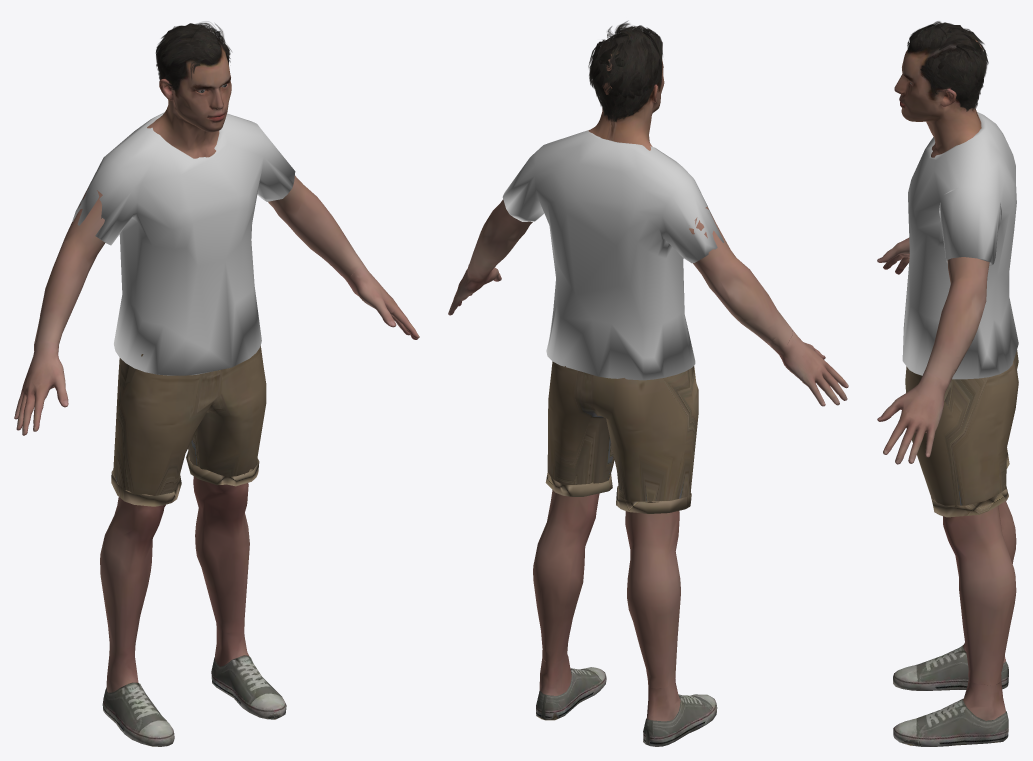
Rendered from sjoe.glb.
3 views of the same model, side by side, from view 1: azimuth 30°, elevation 25°; view 2: azimuth 150°, elevation 25°; view 3: azimuth 270°, elevation 25° (orthographic).
Visible parts, largest first — view 1: TShirt, Shorts, Legs, Arms, Face, Shoes, Hair; view 2: TShirt, Shorts, Legs, Arms, Hair, Shoes, Face; view 3: TShirt, Shorts, Legs, Arms, Shoes, Face, Hair.
Part boxes in pixels (x1,y1,x2,y2): TShirt: [72, 112, 295, 375]; Shorts: [111, 345, 266, 506]; Legs: [100, 476, 249, 692]; Arms: [14, 175, 419, 435]; Face: [147, 28, 231, 158]; Shoes: [102, 655, 286, 746]; Hair: [155, 21, 231, 95]; TShirt: [502, 130, 723, 380]; Shorts: [545, 348, 698, 513]; Legs: [533, 490, 680, 721]; Arms: [448, 199, 848, 406]; Hair: [588, 21, 662, 121]; Shoes: [536, 667, 717, 746]; Face: [588, 32, 664, 150]; TShirt: [902, 112, 1018, 379]; Shorts: [905, 350, 1018, 517]; Legs: [943, 501, 1016, 720]; Arms: [877, 237, 989, 464]; Shoes: [893, 645, 1008, 746]; Face: [894, 27, 984, 157]; Hair: [907, 21, 988, 111].
Bounding box in the file's own units: 1.02 × 1.72 × 0.3198.
12 materials, 10 textured.
